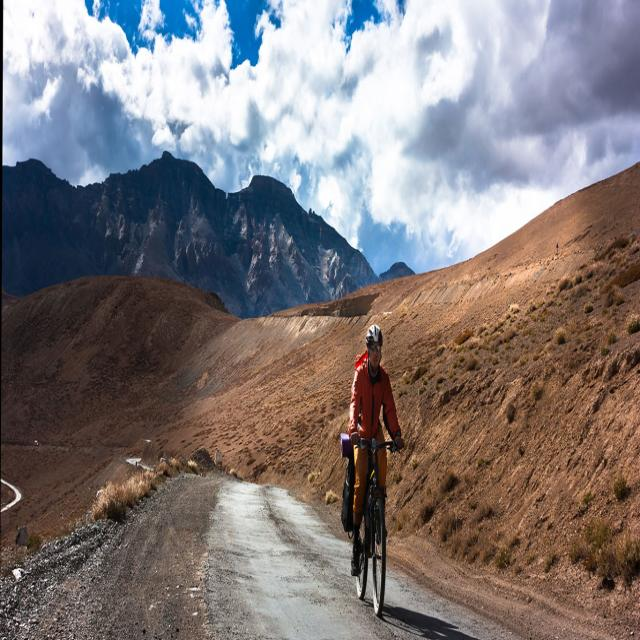bicycle: (341, 323, 404, 616)
